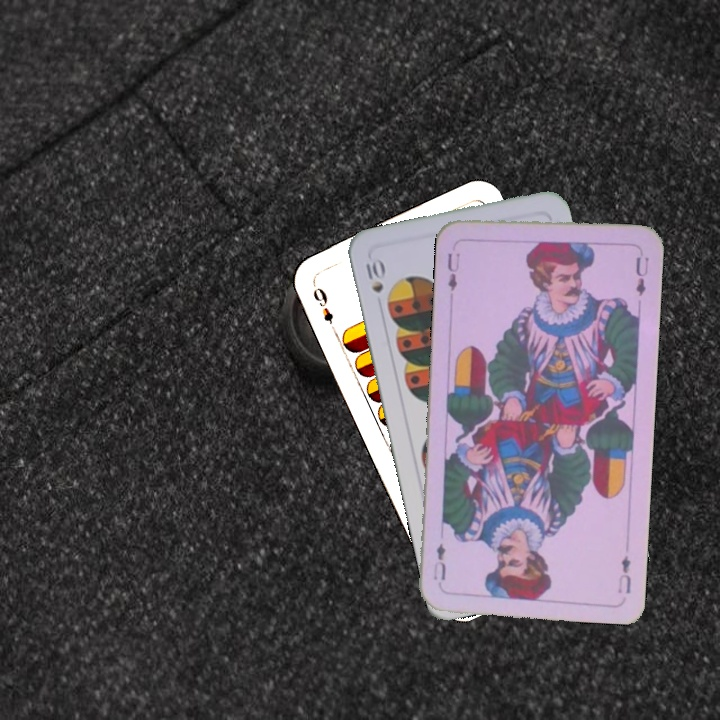E9: (308, 279, 337, 327)
EU: (614, 552, 634, 596), (443, 249, 462, 294)
S10: (362, 254, 386, 295)
